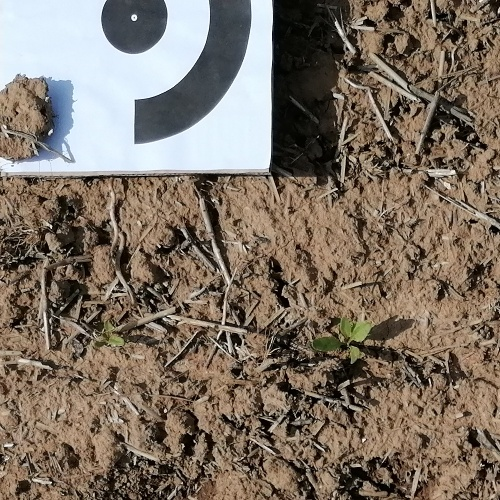beet: (312, 317, 373, 363), (94, 317, 124, 351)
